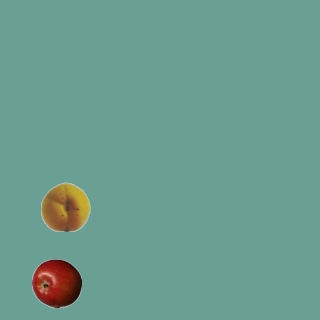Apple Braeburn: (31, 258, 81, 308)
Peach 2: (40, 181, 90, 231)
